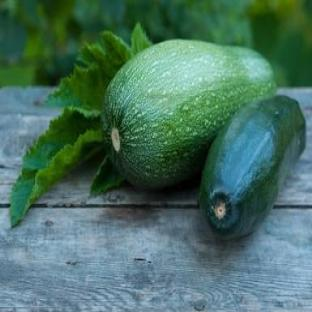Zucchini: (103, 40, 275, 188), (200, 96, 305, 238)
